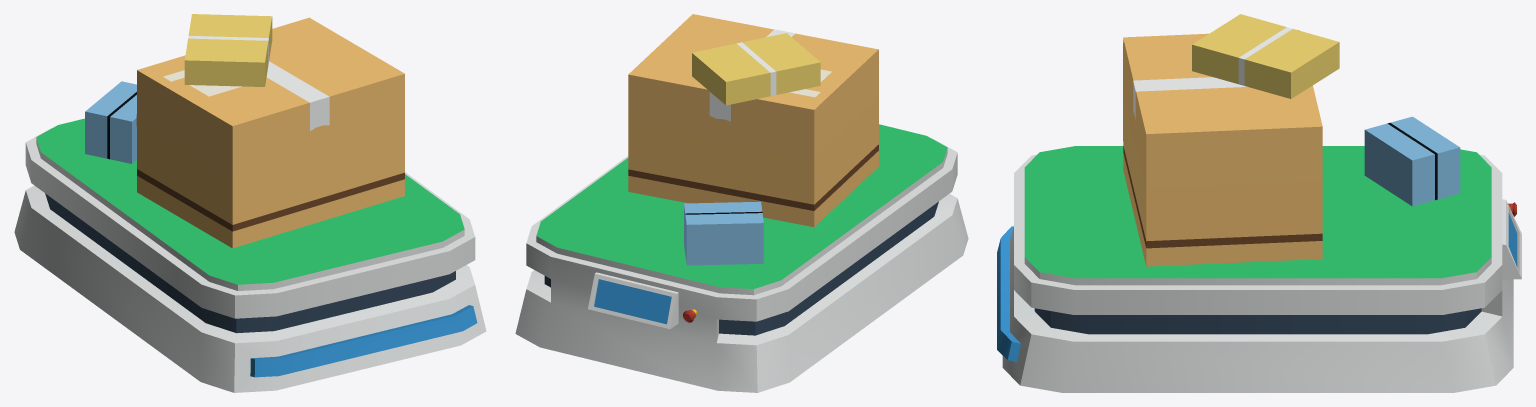
Rendered from Robot_001.fbx.
3 views of the same model, side by side, from view 1: azimuth 30°, elevation 25°; view 2: azimuth 150°, elevation 25°; view 3: azimuth 270°, elevation 25° (orthographic). The views are drawn at different scales.
Parts seen in each view (by area): view 1: Robot.007; view 2: Robot.007; view 3: Robot.007.
Boxes of the visible parts, <box> form: Robot.007: <box>14,14,486,392</box>; Robot.007: <box>515,14,968,392</box>; Robot.007: <box>997,14,1521,392</box>.
Bounding box in the file's own units: 63.21 × 52.88 × 94.65.
